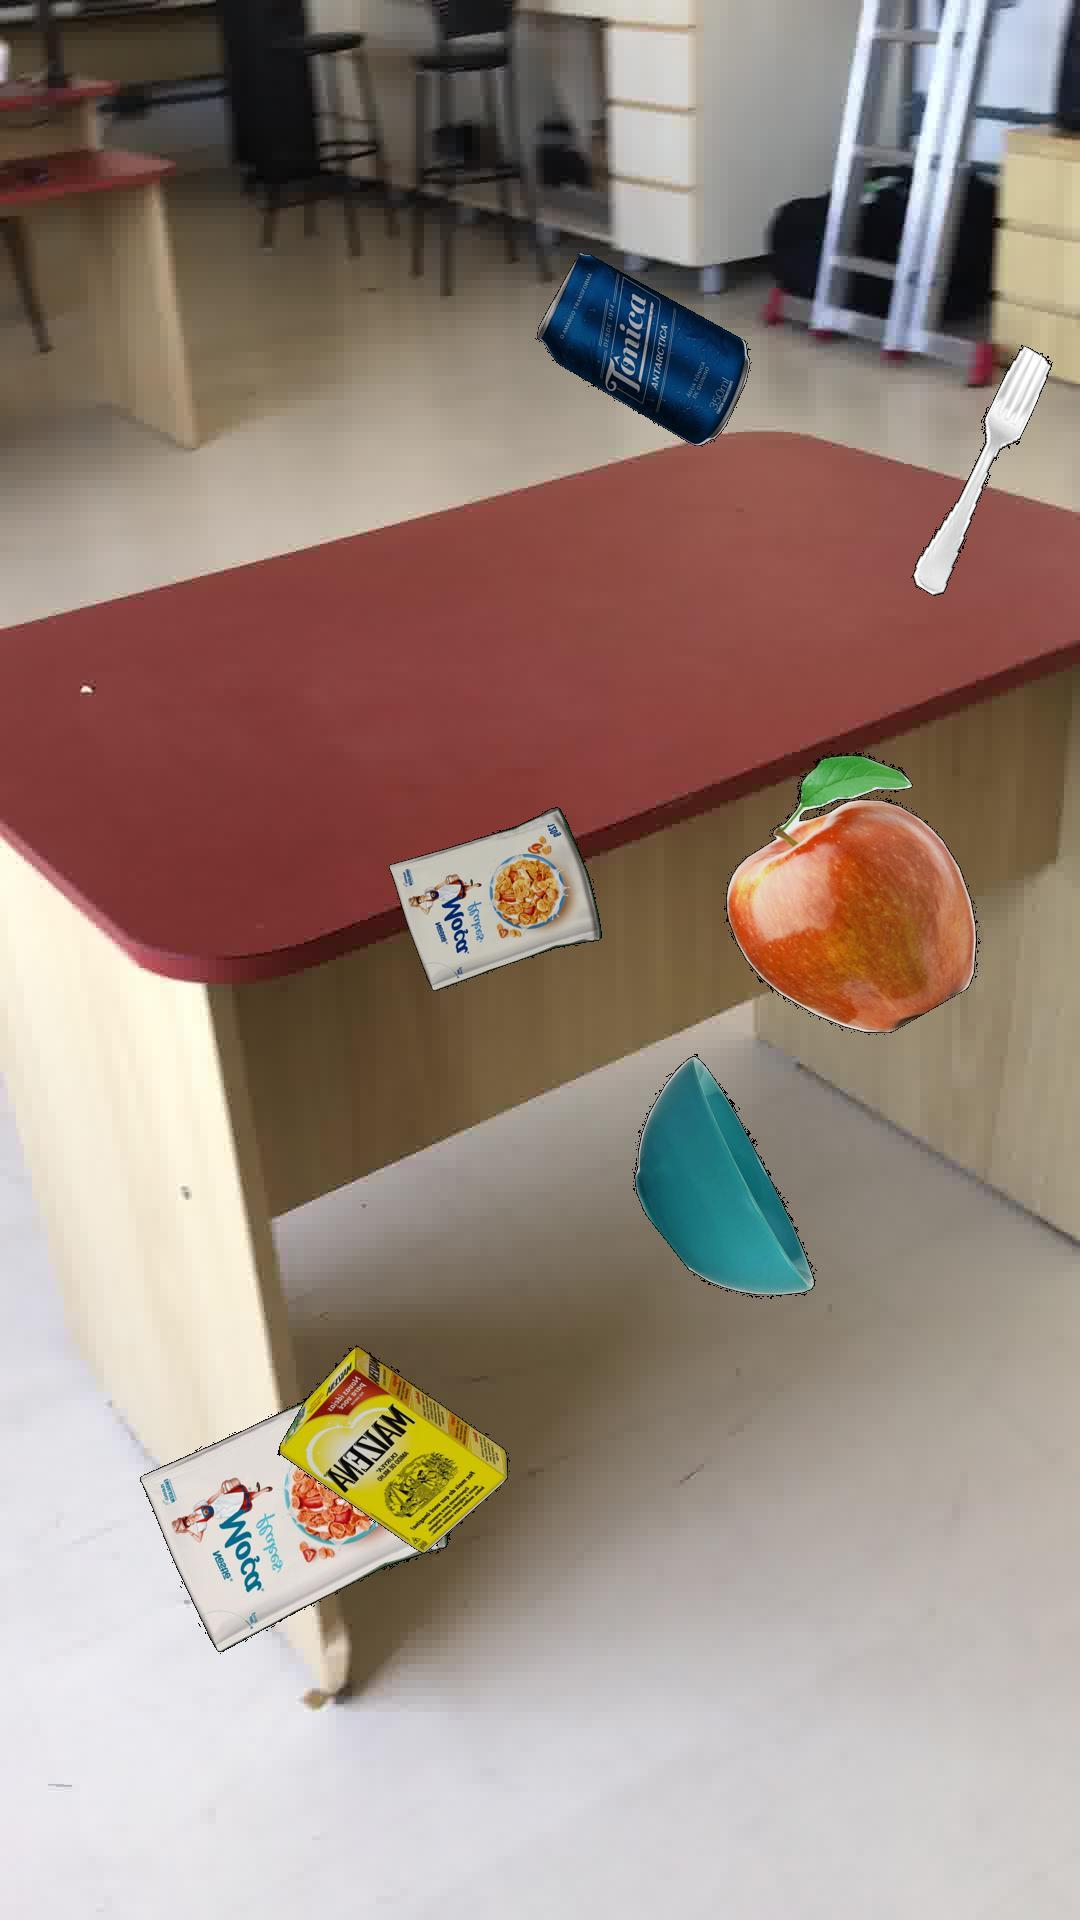apple: (723, 750, 977, 1031)
bowl: (632, 1055, 815, 1298)
corn flakes: (138, 1396, 450, 1651), (388, 807, 600, 989)
fork: (910, 344, 1051, 595)
tonic: (535, 251, 749, 444)
